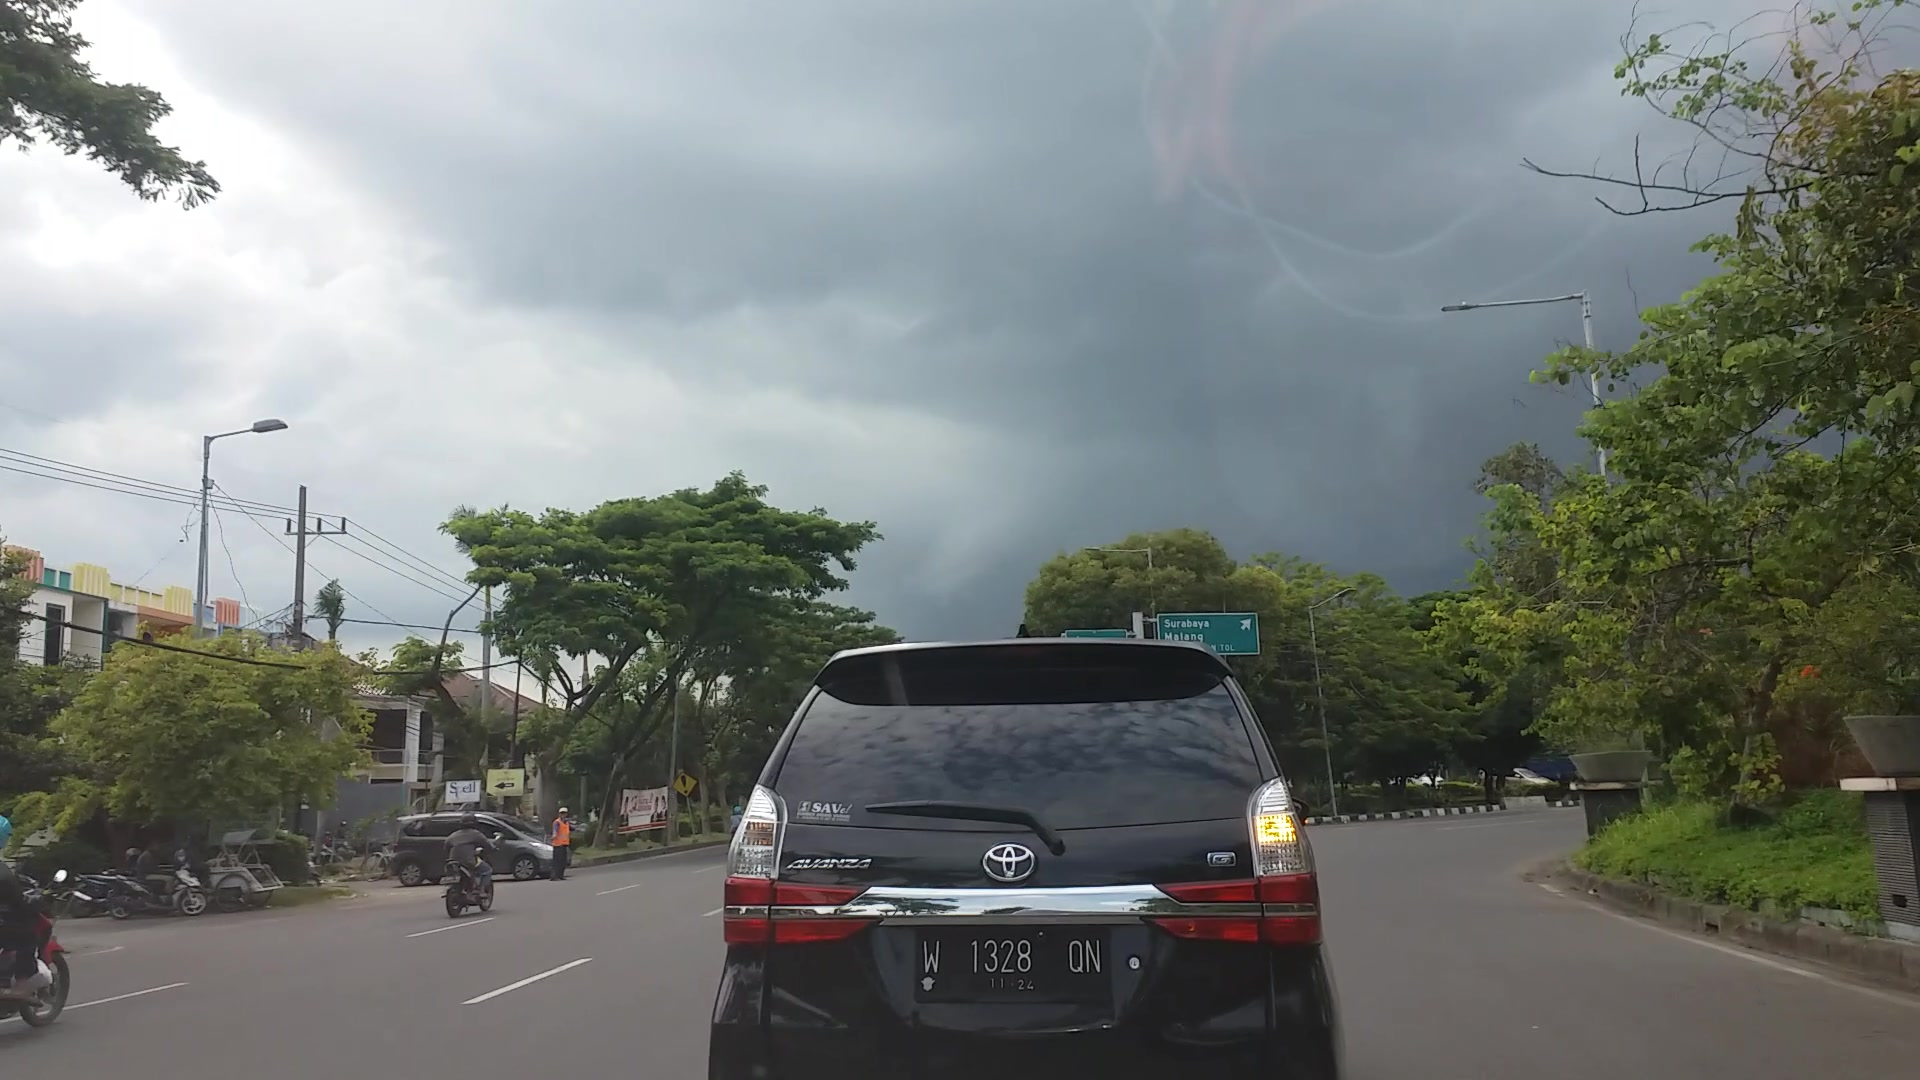plate_positive: (916, 926, 1108, 1004)
